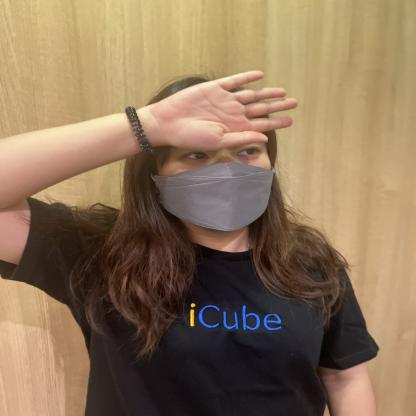Sick: (74, 53, 316, 187)
